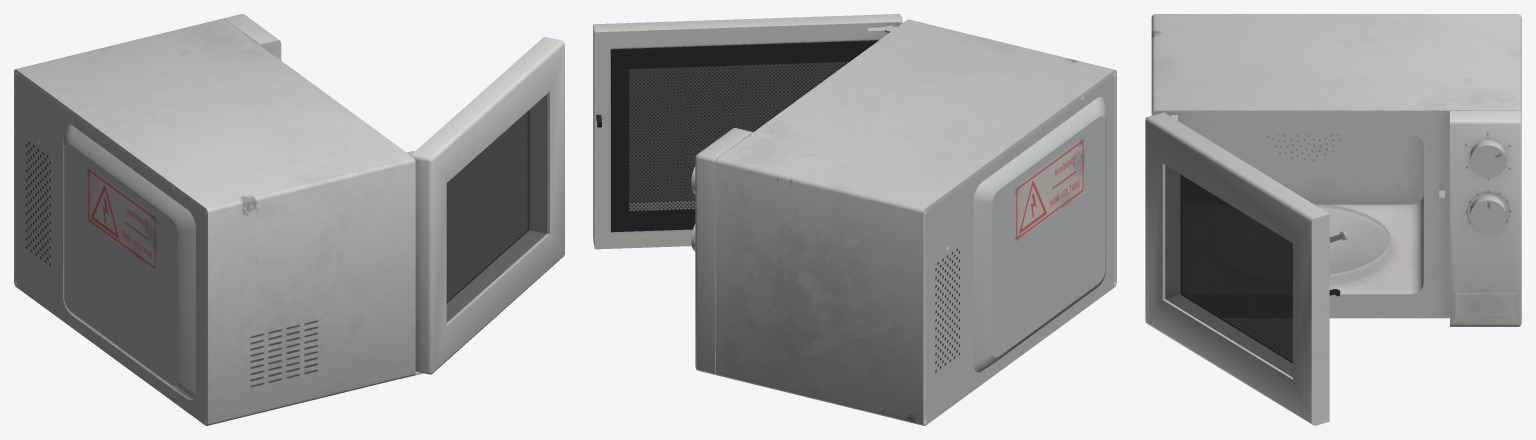
File: microwave_oven.glb
3 views of the same model, side by side, from view 1: azimuth 30°, elevation 25°; view 2: azimuth 150°, elevation 25°; view 3: azimuth 270°, elevation 25° (orthographic). The views are drawn at different scales.
Parts seen in each view (by area): view 1: Oven, Door; view 2: Oven, Door; view 3: Oven, Door, Plate.
Part boxes in pixels (x1=…): Oven: x1=14, y1=14, x2=423, y2=425; Door: x1=411, y1=36, x2=564, y2=374; Oven: x1=691, y1=19, x2=1116, y2=425; Door: x1=593, y1=14, x2=902, y2=249; Oven: x1=1151, y1=14, x2=1521, y2=326; Door: x1=1145, y1=112, x2=1340, y2=425; Plate: x1=1313, y1=203, x2=1391, y2=279.
Bounding box in the file's own units: 0.5591 × 0.2632 × 0.4237.
1 material, 1 textured.
